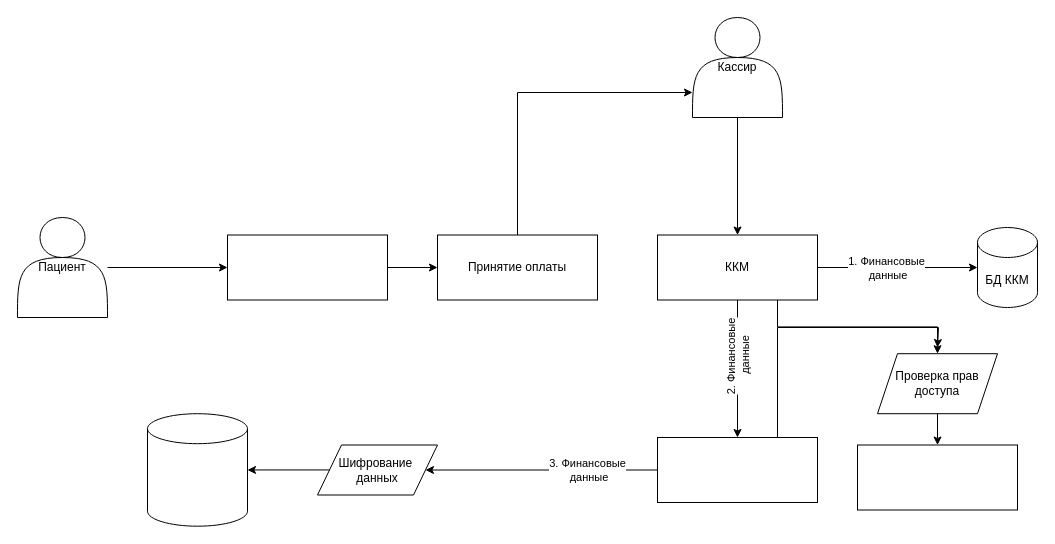
The diagram is 1055 pixels wide and 544 high, and some of its shapes have lost their labels. Here are the shapes that lost their labels. From the top down, the centre of each, then its label:
At pixel 307 267: "Оплата услуг".
At pixel 197 469: "БД 1С Бухгалтерии".
At pixel 737 469: "1с Бухгалетерия".
At pixel 937 477: "Active Directory".
